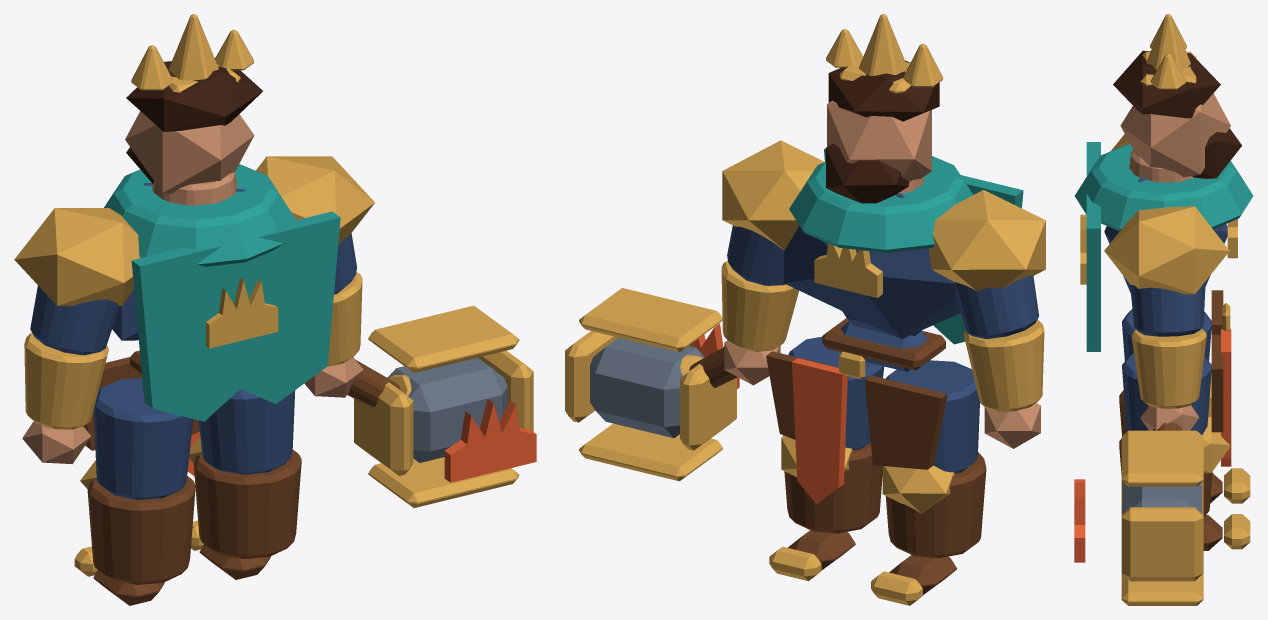
File: crown_runner_v2.glb
The picture shows the model from 3 angles, left to right: view 1: azimuth 30°, elevation 25°; view 2: azimuth 150°, elevation 25°; view 3: azimuth 270°, elevation 25°; orthographic projection. The views are drawn at different scales.
Parts seen in each view (by area): view 1: Hero_CapeCloth, Hero_Collar, Hero_Pauldron_L, Hero_UpperLeg_L, Hero_BootShaft_L, Hero_BootShaft_R, Hero_HammerHead, Hero_UpperLeg_R, Hero_Face, Hero_HammerBandTop, Hero_Bracer_L, Hero_Pauldron_R (+20 smaller); view 2: Hero_Collar, Hero_ChestMass, Hero_Pauldron_L, Hero_HammerHead, Hero_CoralSash, Hero_Pauldron_R, Hero_SkirtGuard_L, Hero_BootShaft_L, Hero_HammerBandTop, Hero_Face, Hero_Bracer_L, Hero_UpperLeg_L (+27 smaller); view 3: Hero_Pauldron_R, Hero_Collar, Hero_HammerCapOuter, Hero_Face, Hero_Bracer_R, Hero_HammerBandTop, Hero_HairCap, Hero_UpperArm_R, Hero_CapeCloth, Hero_UpperLeg_R, Hero_HammerBandBottom, Hero_HammerHead (+19 smaller).
Part boxes in pixels (x1,y1,x2,y2): Hero_CapeCloth: [131, 211, 340, 421]; Hero_Collar: [104, 164, 296, 266]; Hero_Pauldron_L: [14, 208, 140, 305]; Hero_UpperLeg_L: [94, 378, 193, 499]; Hero_BootShaft_L: [87, 476, 195, 584]; Hero_BootShaft_R: [193, 449, 301, 558]; Hero_HammerHead: [387, 357, 507, 462]; Hero_UpperLeg_R: [198, 389, 295, 474]; Hero_Face: [125, 111, 254, 194]; Hero_HammerBandTop: [368, 305, 519, 372]; Hero_Bracer_L: [24, 332, 108, 429]; Hero_Pauldron_R: [255, 156, 374, 244]; Hero_Collar: [789, 156, 973, 252]; Hero_ChestMass: [784, 193, 960, 338]; Hero_Pauldron_L: [928, 190, 1045, 290]; Hero_HammerHead: [590, 337, 704, 438]; Hero_CoralSash: [792, 358, 847, 503]; Hero_Pauldron_R: [722, 140, 824, 250]; Hero_SkirtGuard_L: [864, 375, 947, 469]; Hero_BootShaft_L: [885, 452, 986, 558]; Hero_HammerBandTop: [579, 288, 722, 352]; Hero_Face: [827, 100, 931, 181]; Hero_Bracer_L: [963, 319, 1044, 411]; Hero_UpperLeg_L: [885, 360, 979, 473]; Hero_Pauldron_R: [1104, 206, 1229, 294]; Hero_Collar: [1075, 143, 1253, 231]; Hero_HammerCapOuter: [1121, 507, 1203, 581]; Hero_Face: [1120, 93, 1230, 177]; Hero_Bracer_R: [1131, 328, 1206, 408]; Hero_HammerBandTop: [1121, 430, 1203, 486]; Hero_HairCap: [1113, 50, 1220, 118]; Hero_UpperArm_R: [1130, 281, 1205, 336]; Hero_CapeCloth: [1086, 142, 1100, 351]; Hero_UpperLeg_R: [1122, 352, 1211, 434]; Hero_HammerBandBottom: [1121, 573, 1203, 605]; Hero_HammerHead: [1123, 484, 1201, 513].
Bounding box in the file's own units: 3.37 × 3.84 × 1.22.
